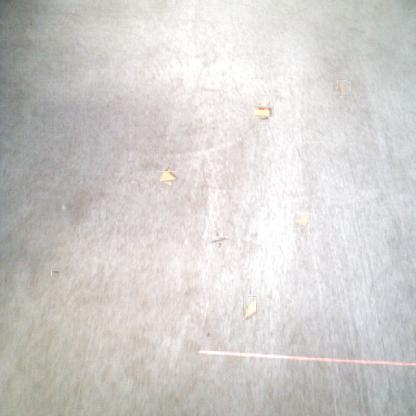dirty: (243, 296, 257, 320), (159, 169, 176, 185), (294, 213, 312, 228), (256, 104, 272, 119), (336, 80, 350, 94)
mark: (212, 232, 226, 245), (52, 270, 60, 277), (204, 329, 210, 337)
